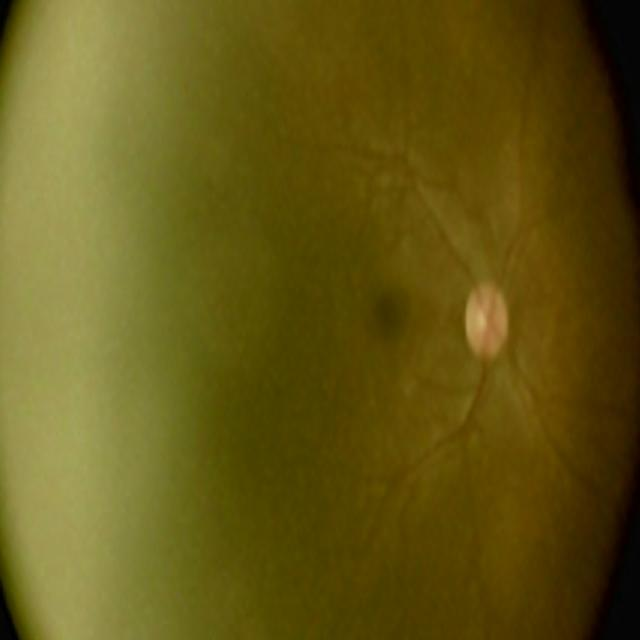optic-nerve: (442, 249, 536, 423)
